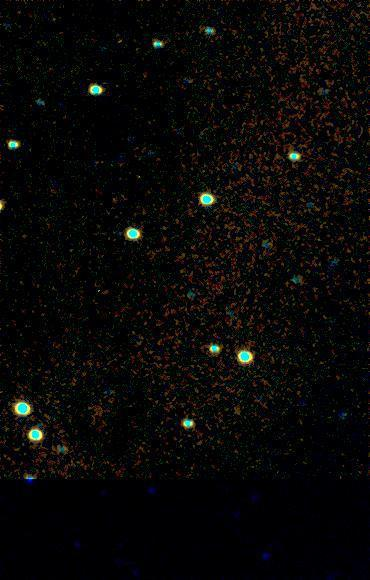star: (0, 191, 18, 221)
